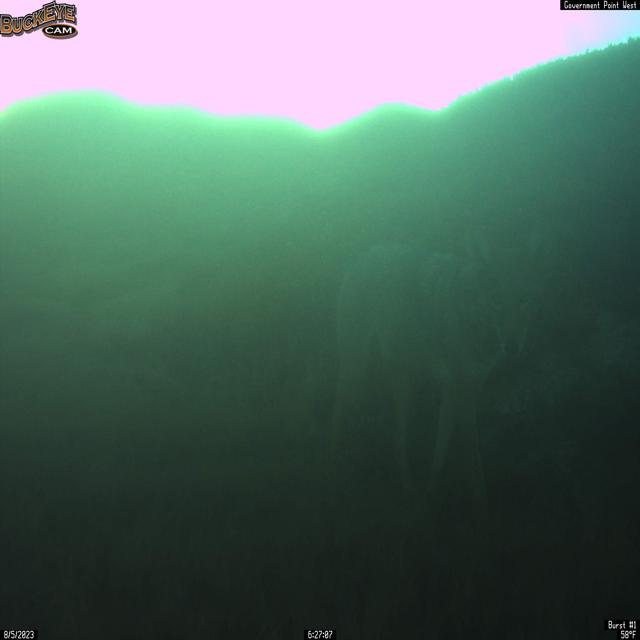coyote: (327, 220, 555, 524)
